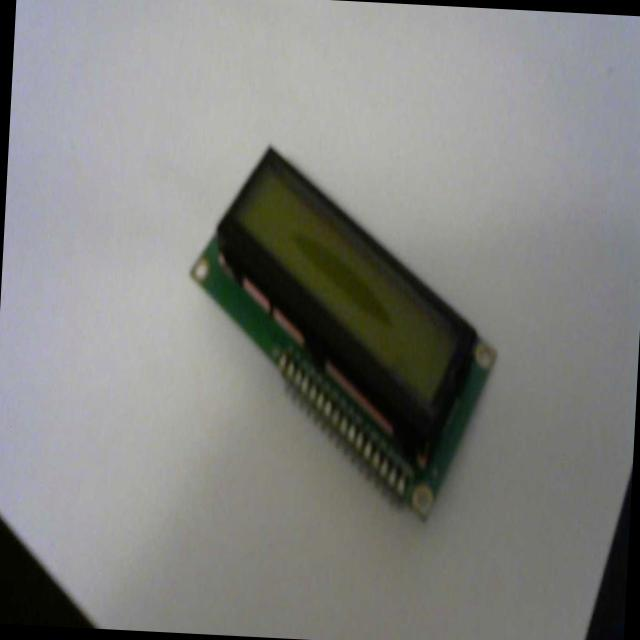lcd: (175, 117, 516, 540)
